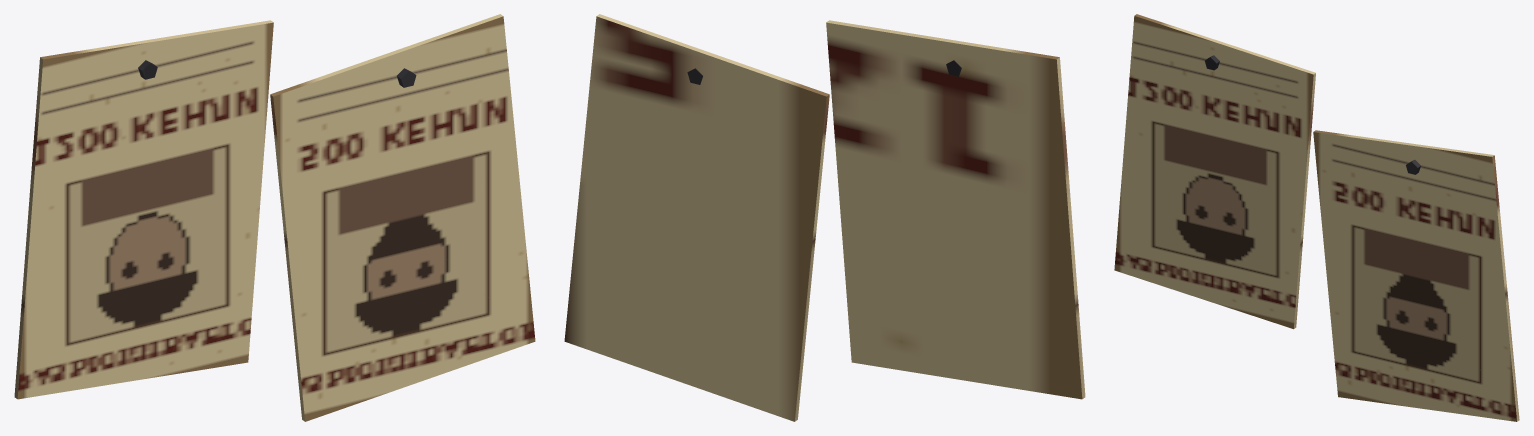
The model's file is wanted_wall.obj.
3 views of the same model, side by side, from view 1: azimuth 30°, elevation 25°; view 2: azimuth 150°, elevation 25°; view 3: azimuth 330°, elevation 25° (orthographic). The views are drawn at different scales.
Visible parts, largest first — view 1: wanted_wall; view 2: wanted_wall; view 3: wanted_wall.
Part boxes in pixels (x1,y1,x2,y2): wanted_wall: (14,14,535,421); wanted_wall: (564,14,1085,421); wanted_wall: (1114,14,1519,421).
Size of the model in its own units: 0.7609 by 0.5986 by 0.02.
